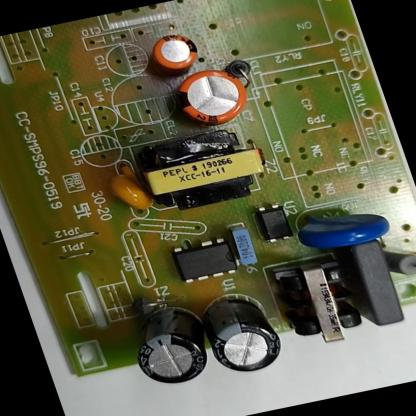Cap1: (160, 60, 258, 132)
Cap2: (141, 27, 206, 77)
Cap3: (187, 282, 293, 380)
Cap4: (113, 292, 227, 392)
MOSFET: (164, 230, 245, 286)
Mov: (282, 193, 398, 259)
Resistor: (380, 236, 416, 285)
Transformer: (126, 120, 278, 216), (267, 252, 374, 351)
